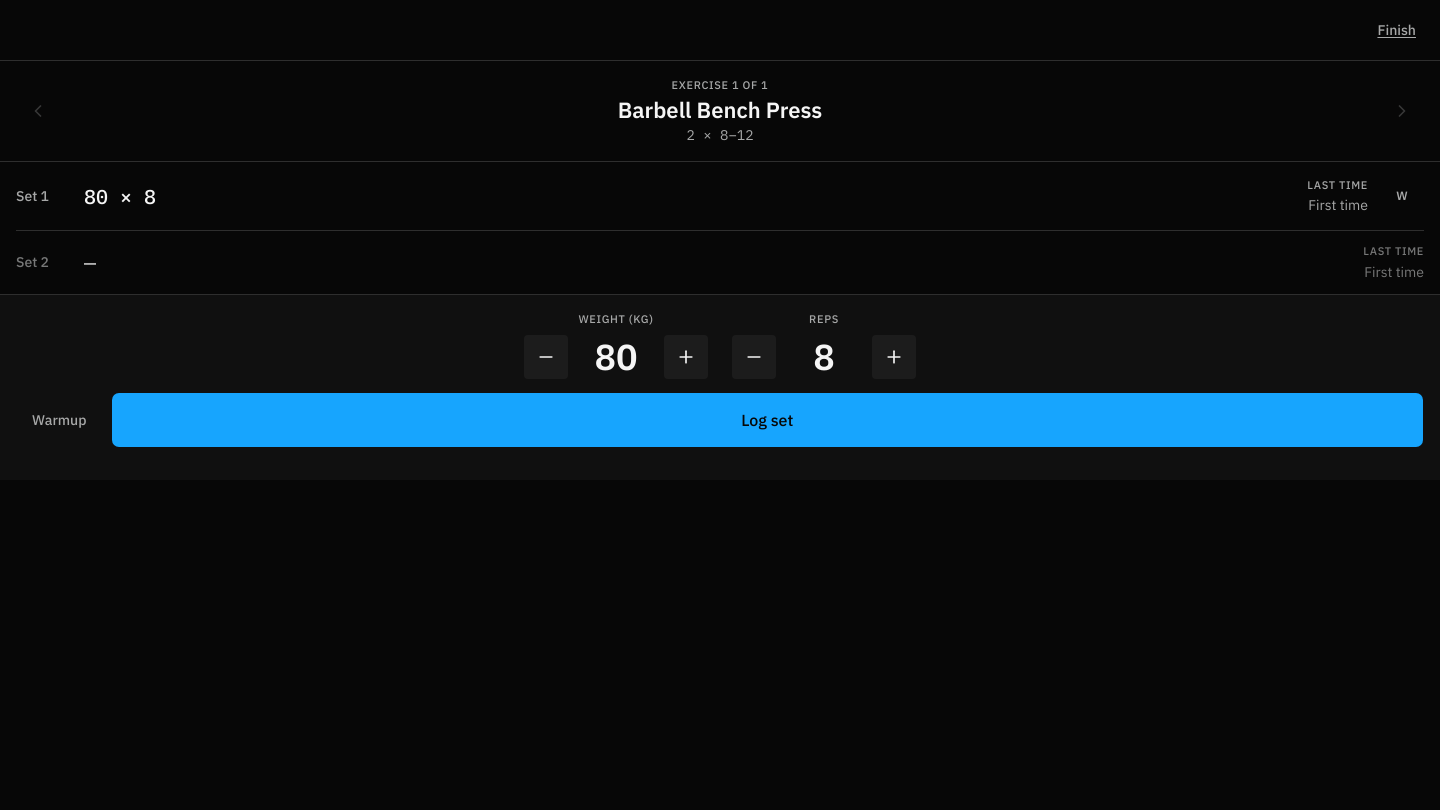
Scenario: SessionPlayer › Finish flow (ticket 014) › shows a summary — duration, volume, sets completed — before committing anything
Expected: the heading "Barbell Bench Press" is shown, [618,96,822,123]
Click the button "Finish": [1397, 30] box [1369,8,1424,52]
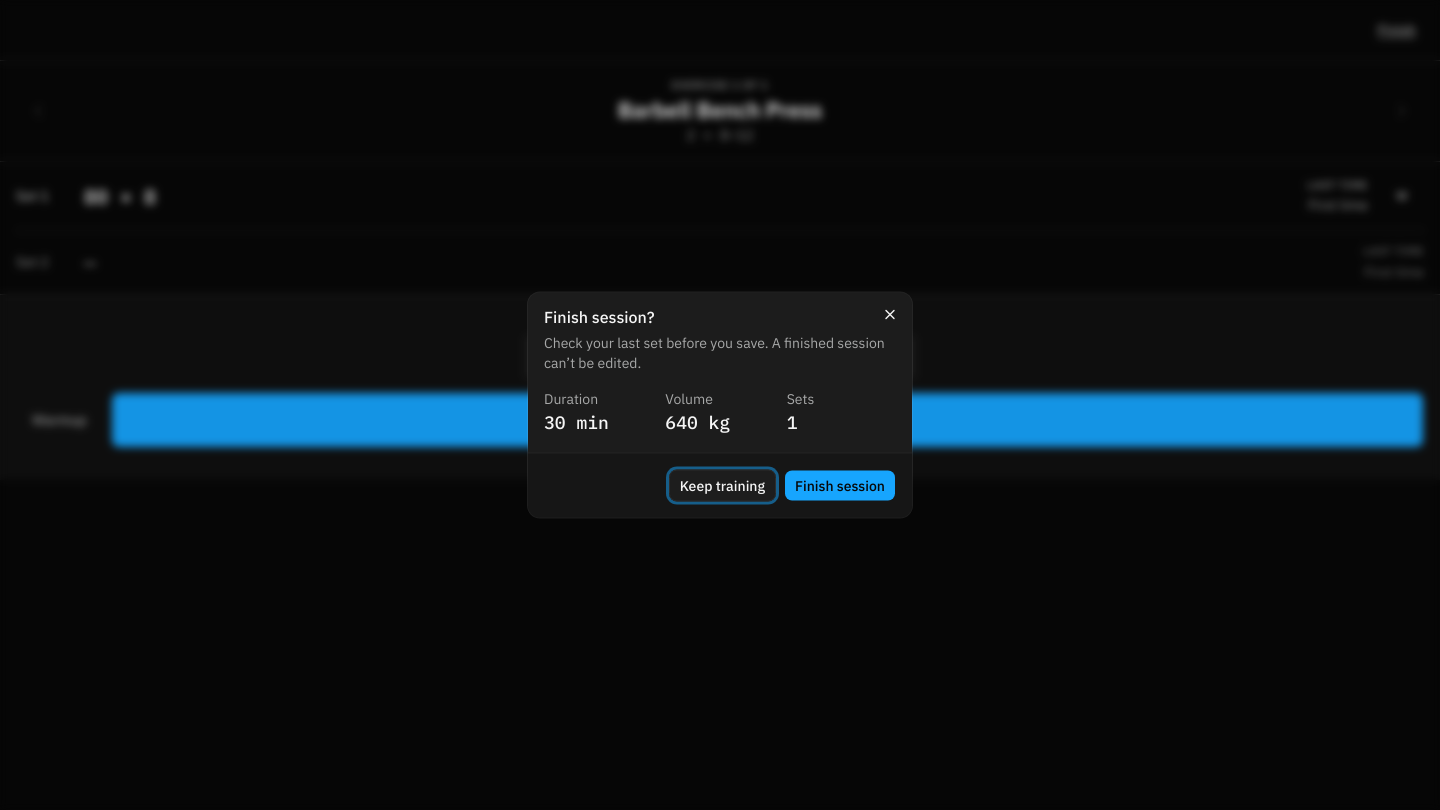
Expected: the heading "Finish session?" is shown, [544,306,655,326]
Expected: the text "30 min" is shown, [544,410,609,434]
Expected: the text "640 kg" is shown, [665,410,730,434]
